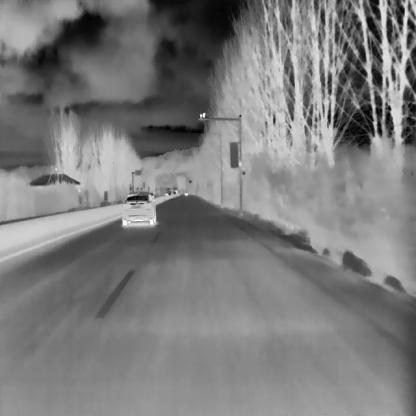car: (122, 192, 156, 225)
